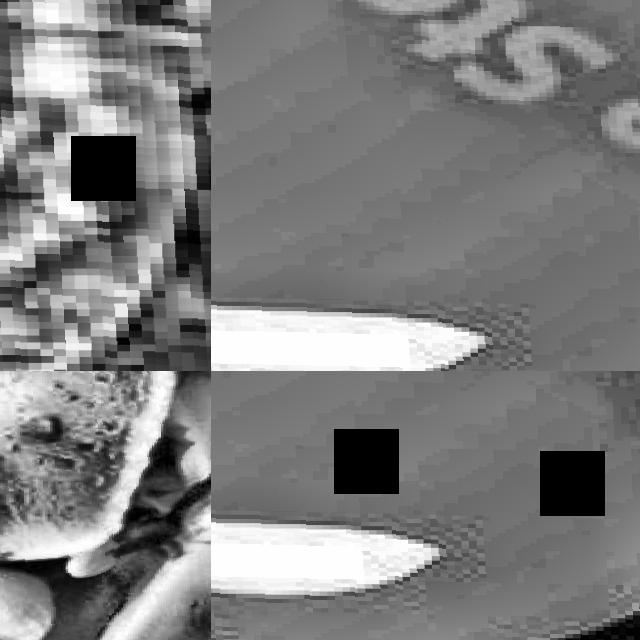crab: (211, 0, 640, 371), (211, 371, 640, 640), (0, 0, 211, 371), (0, 371, 211, 640)
